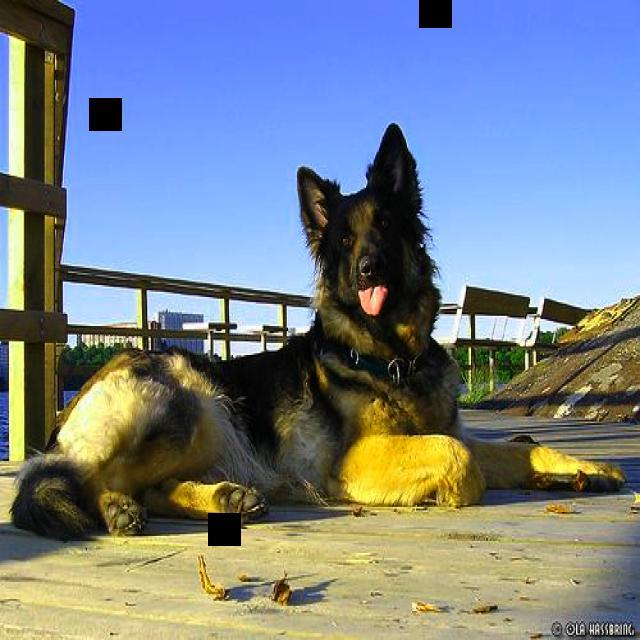adult_dog: (11, 122, 628, 549)
